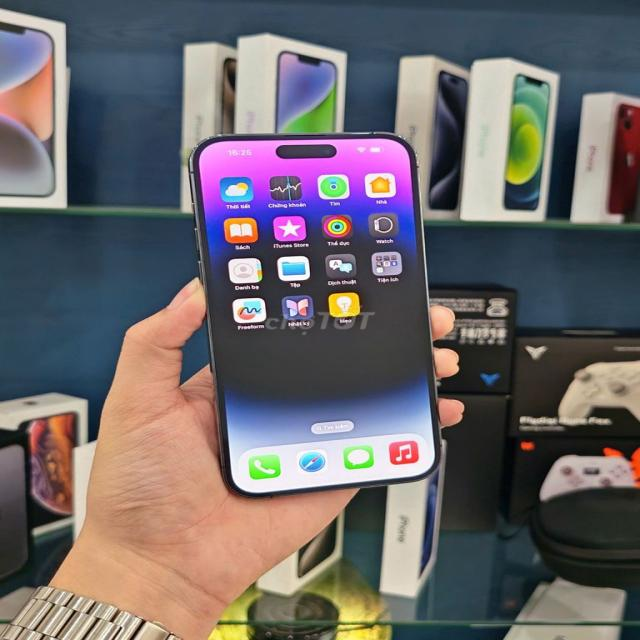gen_14: (183, 120, 452, 502)
